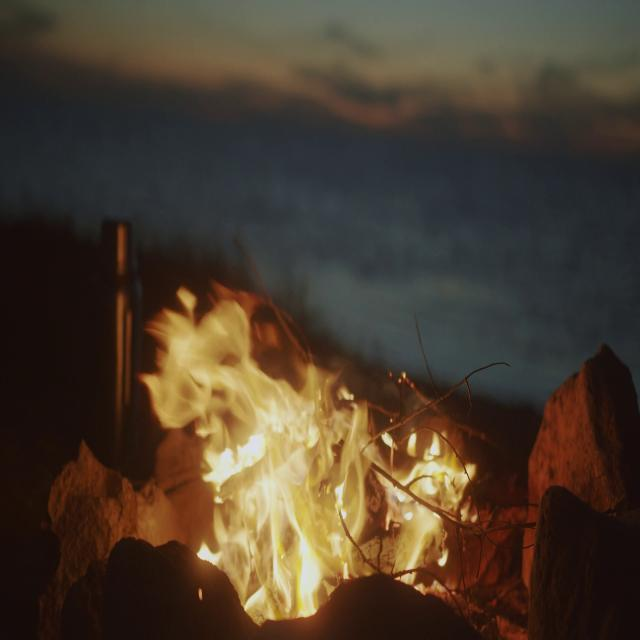Fire: (144, 263, 474, 625)
